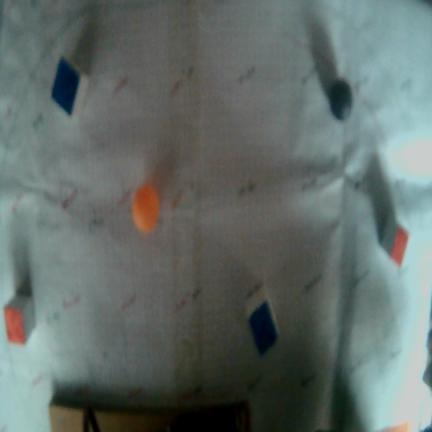circle_blue: (329, 79, 352, 120)
circle_orange: (131, 184, 160, 233)
rectangle_blue: (249, 300, 279, 358)
rectangle_orange: (392, 225, 409, 268)
square_blue: (51, 55, 81, 115)
square_orange: (5, 305, 24, 346)
